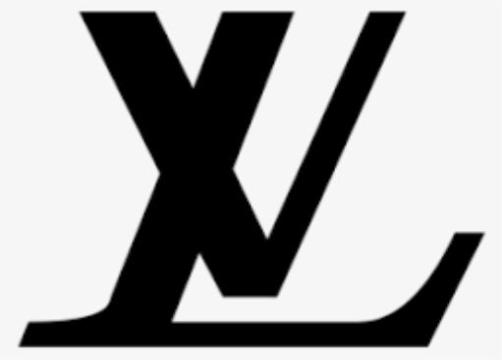LOUIS-VUITTON: (16, 8, 492, 360)
